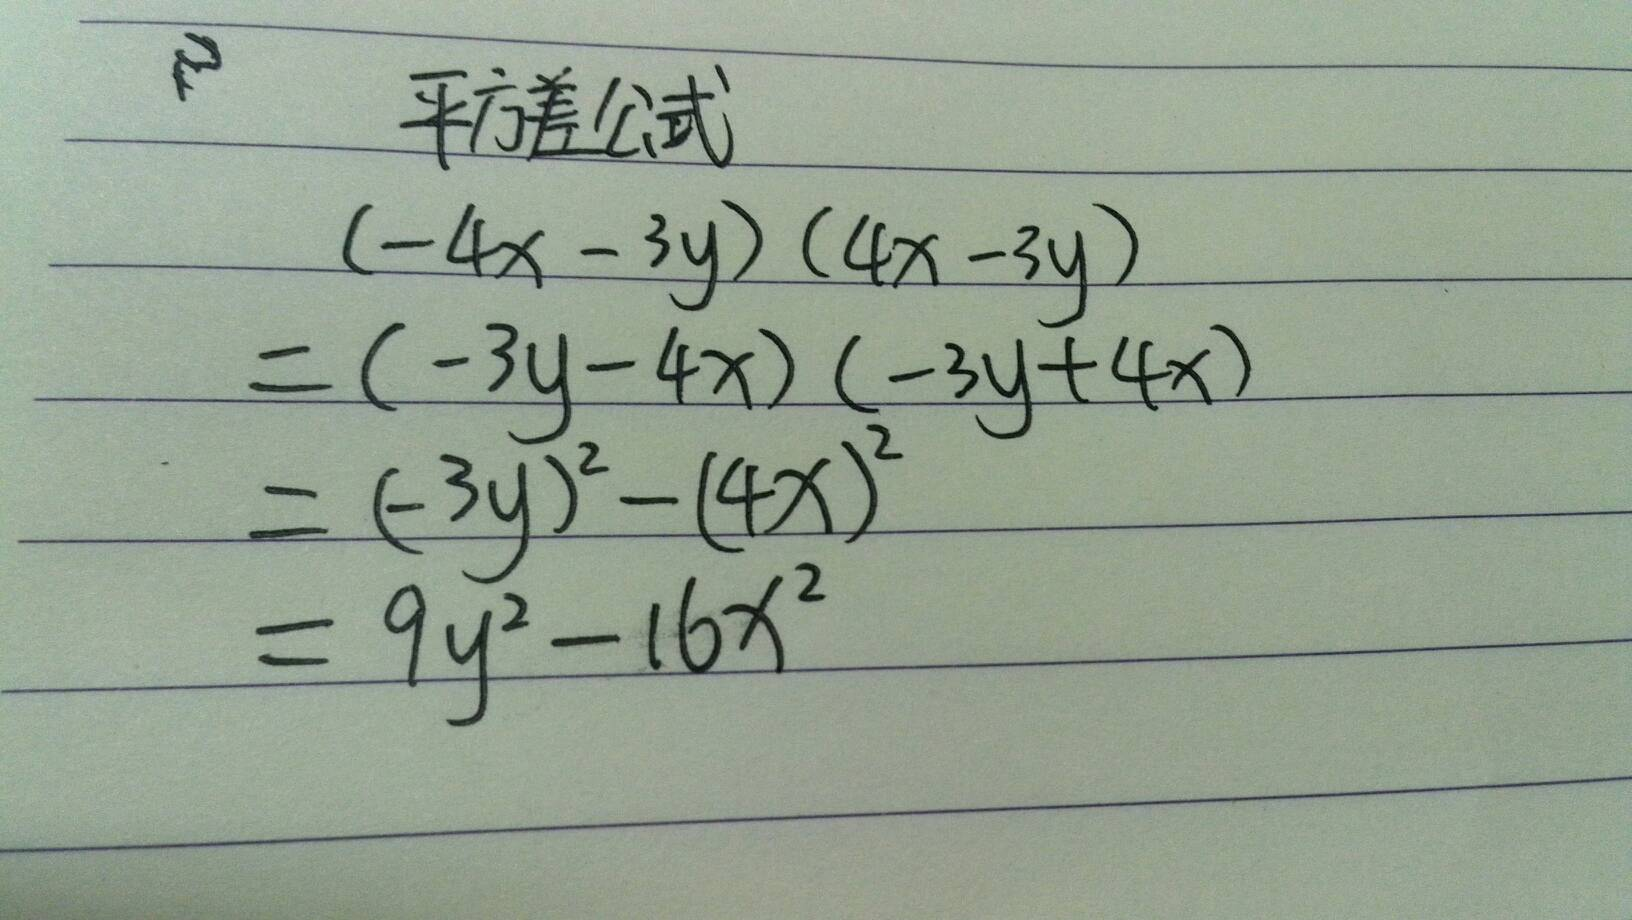square: (486, 584, 534, 636), (786, 558, 834, 607), (864, 422, 910, 474), (571, 435, 608, 481)
